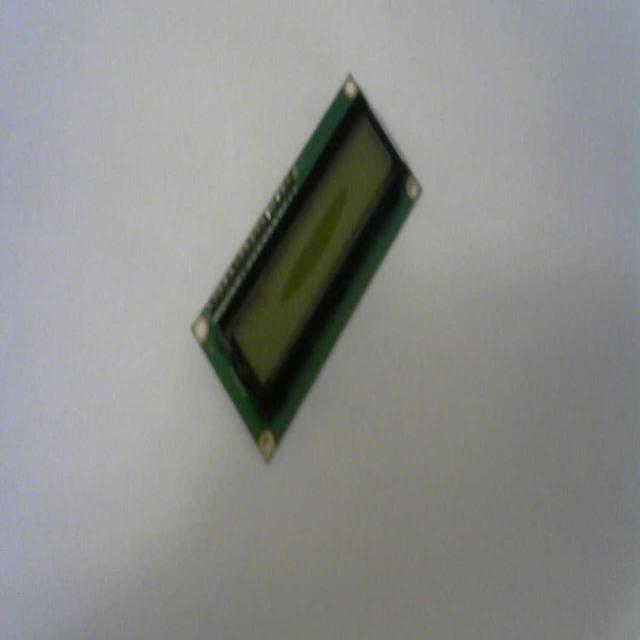lcd: (190, 70, 423, 462)
